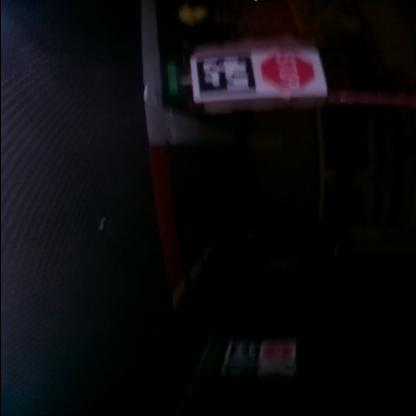Duckie: (178, 4, 206, 26)
QR code: (194, 52, 256, 98), (226, 340, 260, 363)
Stop sign: (260, 51, 316, 93), (264, 338, 294, 360)
